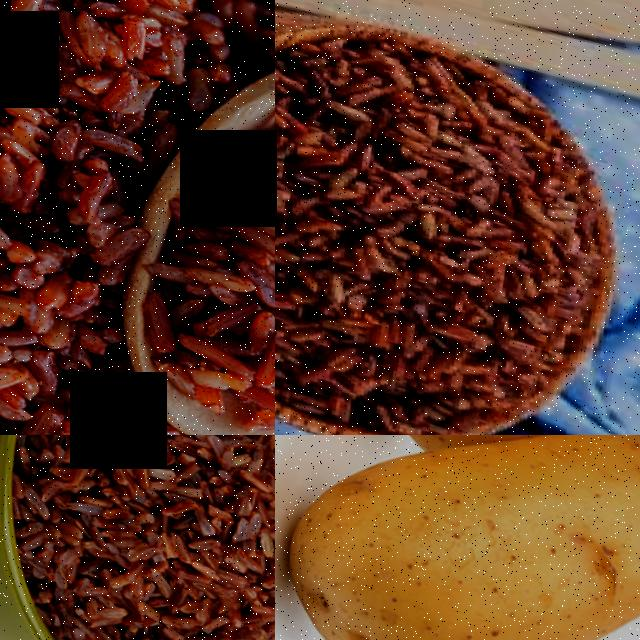potato: (275, 435, 640, 640)
red rice: (275, 0, 630, 435), (0, 22, 181, 435), (0, 435, 275, 640), (139, 75, 275, 435), (3, 0, 275, 87)
